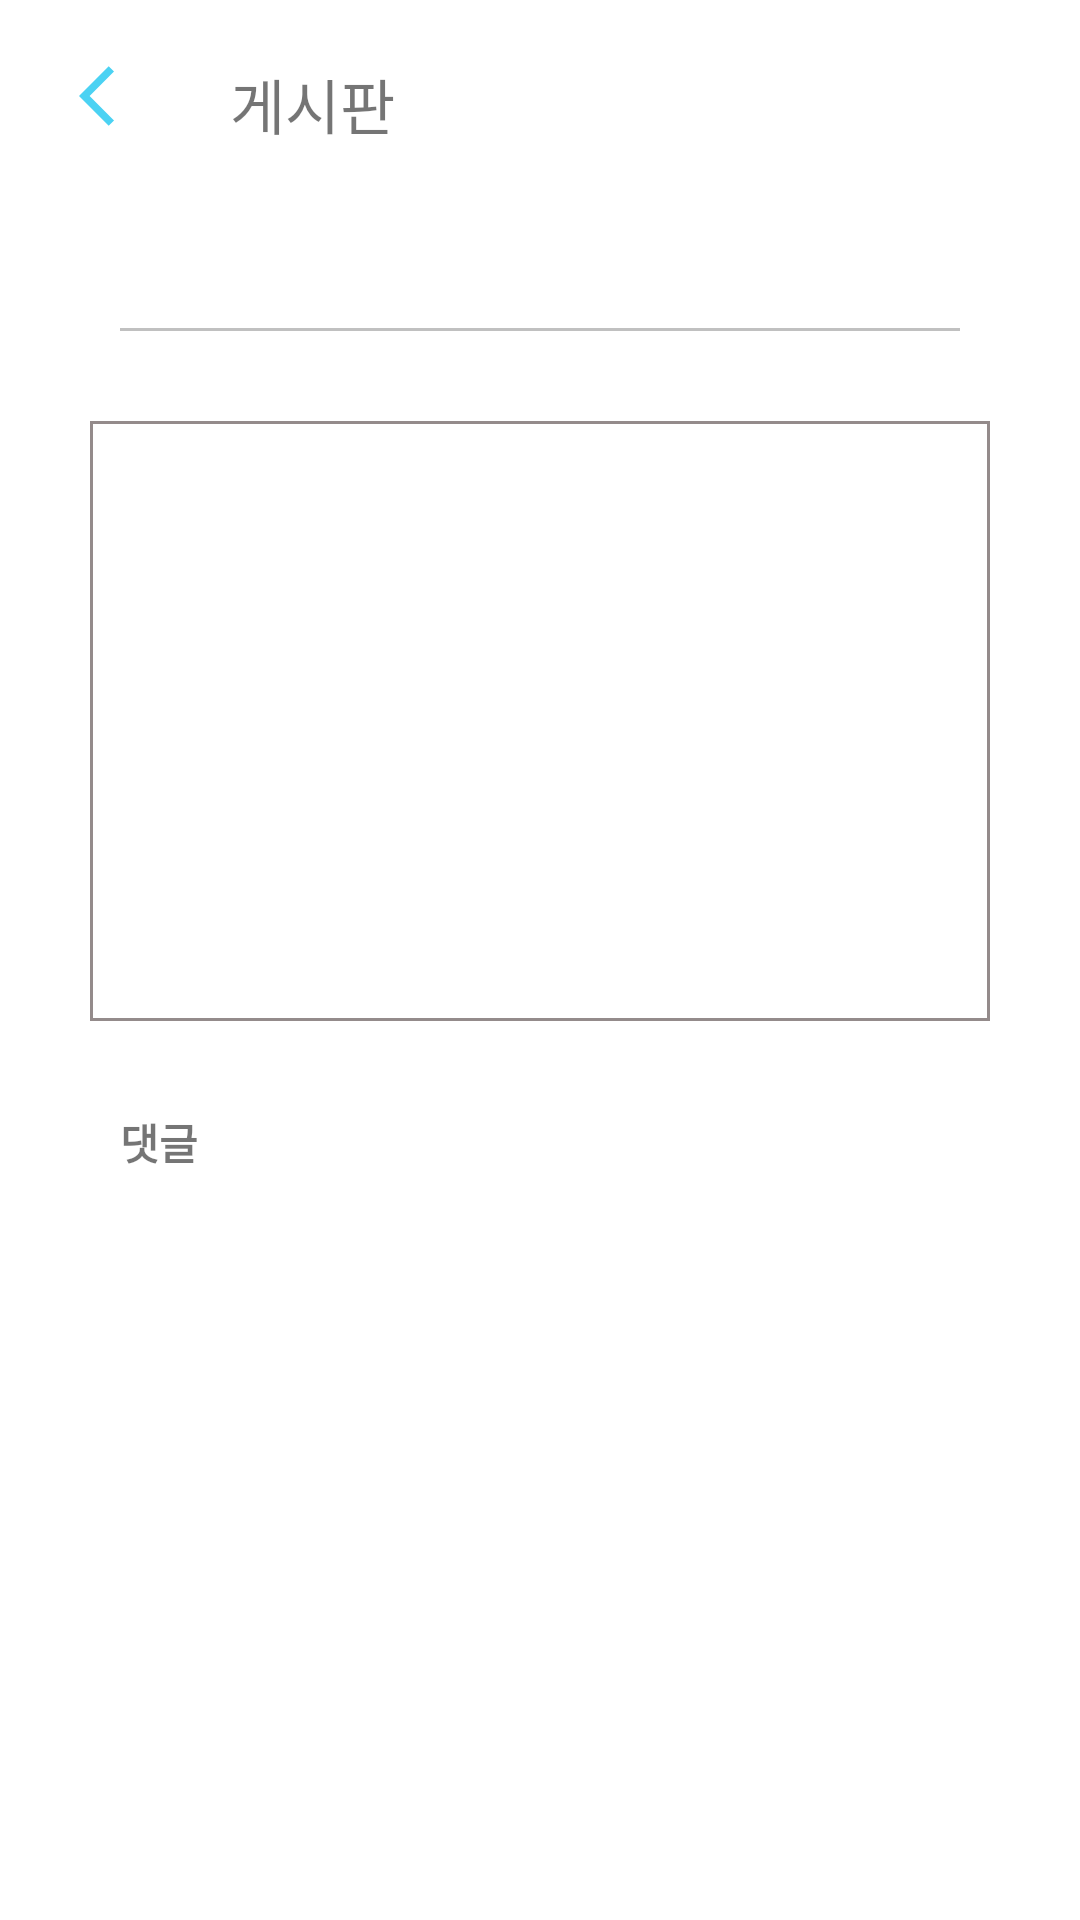

Icon click points for this 1080x1920 phone screenshot, format point (x, y):
back: point (96, 96)
